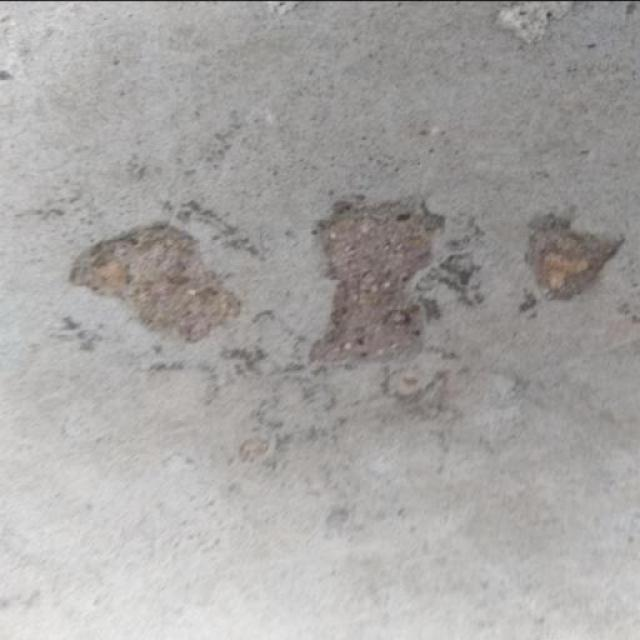D10: (69, 219, 264, 342), (318, 195, 445, 364), (525, 210, 622, 300)
